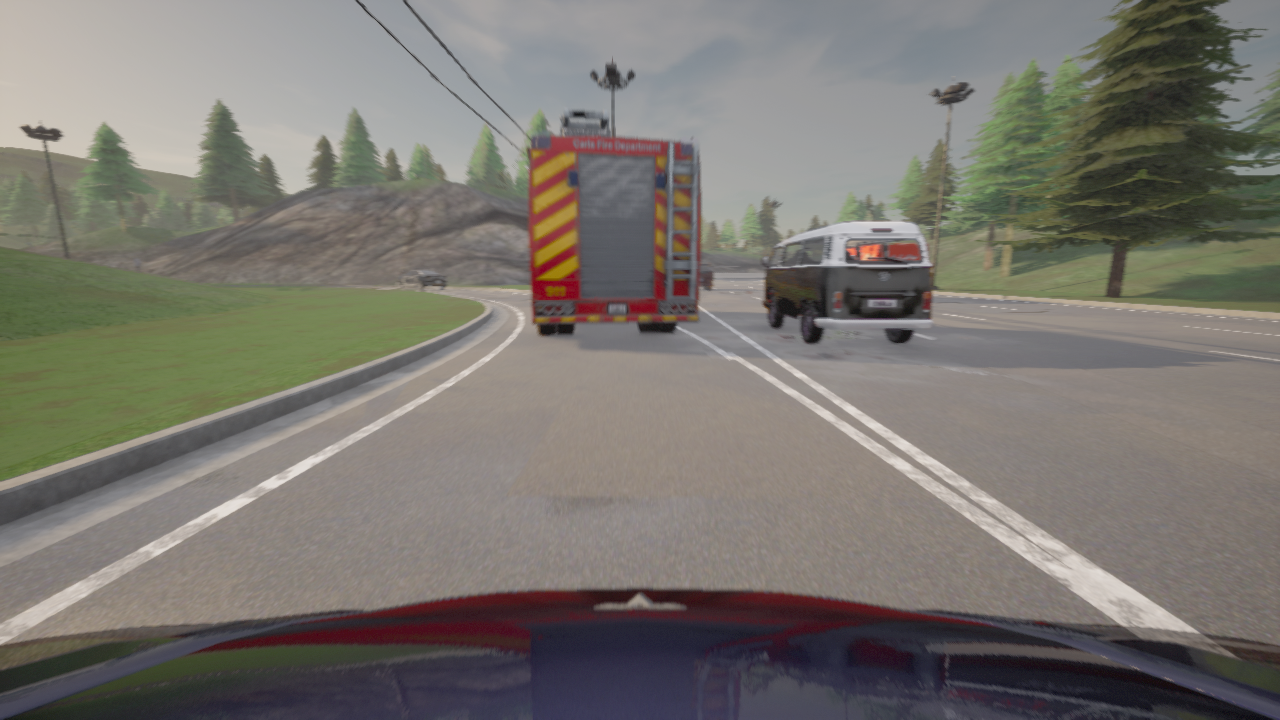cyclist: (0, 588, 1279, 719), (527, 107, 700, 334), (762, 221, 932, 343), (396, 267, 447, 289), (699, 262, 712, 289), (926, 244, 927, 250)
